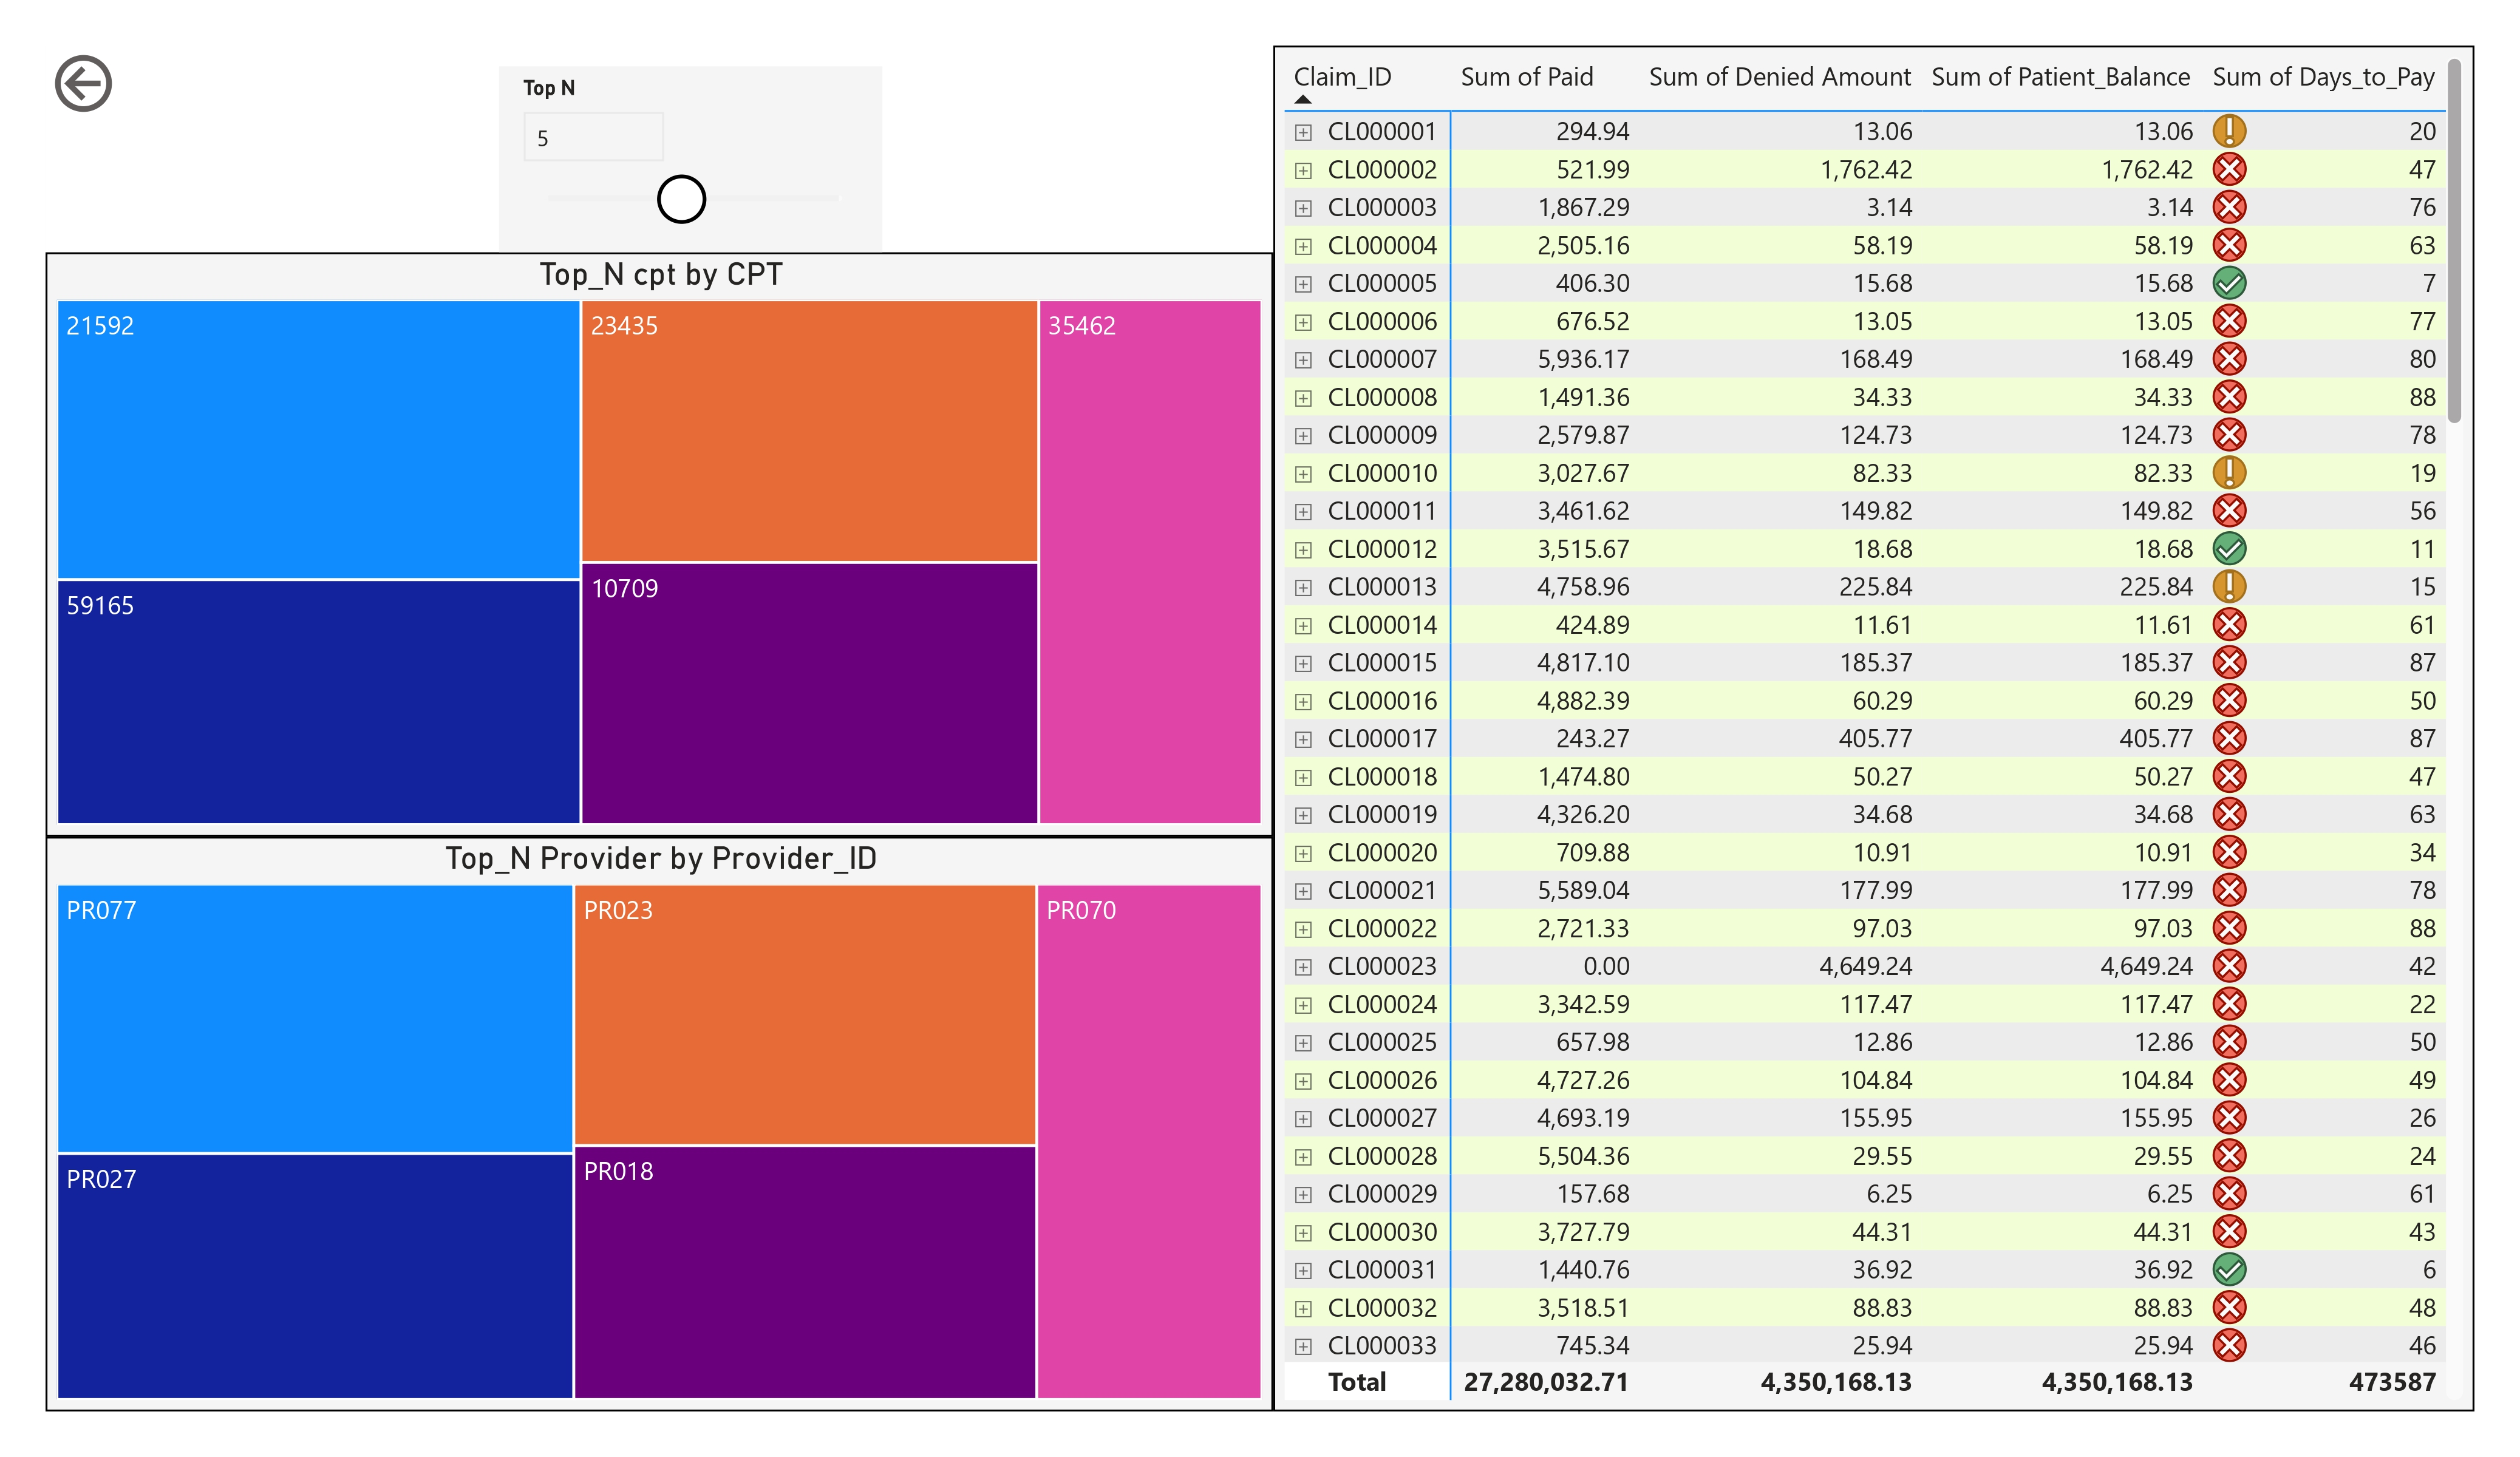

This screenshot's page, from the dashboard's own definition file:
{"tool":"powerbi","page":{"name":"Page 2","canvas":[1280,720],"ordinal":1},"visuals":[{"type":"treemap","fields":{"Group":["RCM.CPT"],"Values":["RCM.Top_N"]},"box":[0,109,647,308],"z":0},{"type":"slicer","fields":{"Values":["Top N.Top N"]},"box":[239,11,202,98],"z":1000},{"type":"treemap","fields":{"Group":["RCM.Provider_ID"],"Values":["RCM.Top_N Provider"]},"box":[0,417,647,303],"z":2000},{"type":"pivotTable","fields":{"Rows":["RCM.Claim_ID","RCM.Insurance Hierarchy.Insurance","RCM.Insurance Hierarchy.Department"],"Values":["Sum(RCM.Paid)","Sum(RCM.Denied Amount)","Sum(RCM.Patient_Balance)","Sum(RCM.Days_to_Pay)"]},"box":[647,0,633,720],"z":3000},{"type":"actionButton","box":[0,0,100,40],"z":4000}]}

Visuals, with their boxes in screenshot pixels (x1, y1, x2, y2):
treemap - RCM.CPT x RCM.Top_N: [52, 250, 1264, 827]
slicer - Top N.Top N: [500, 67, 879, 250]
treemap - RCM.Provider_ID x RCM.Top_N Provider: [52, 827, 1264, 1394]
pivotTable - RCM.Claim_ID x RCM.Insurance Hierarchy.Insurance: [1264, 46, 2450, 1394]
actionButton: [52, 46, 240, 121]
